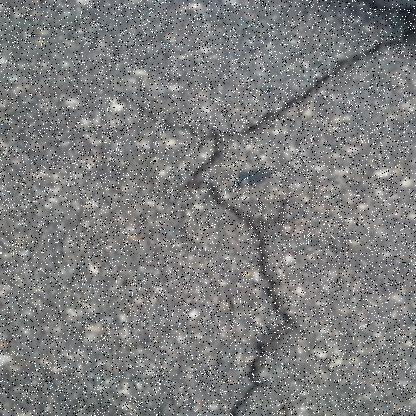Cracks: (175, 0, 415, 415)
